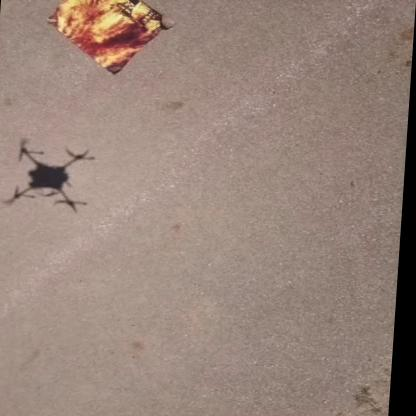fire-poster: (41, 0, 174, 75)
